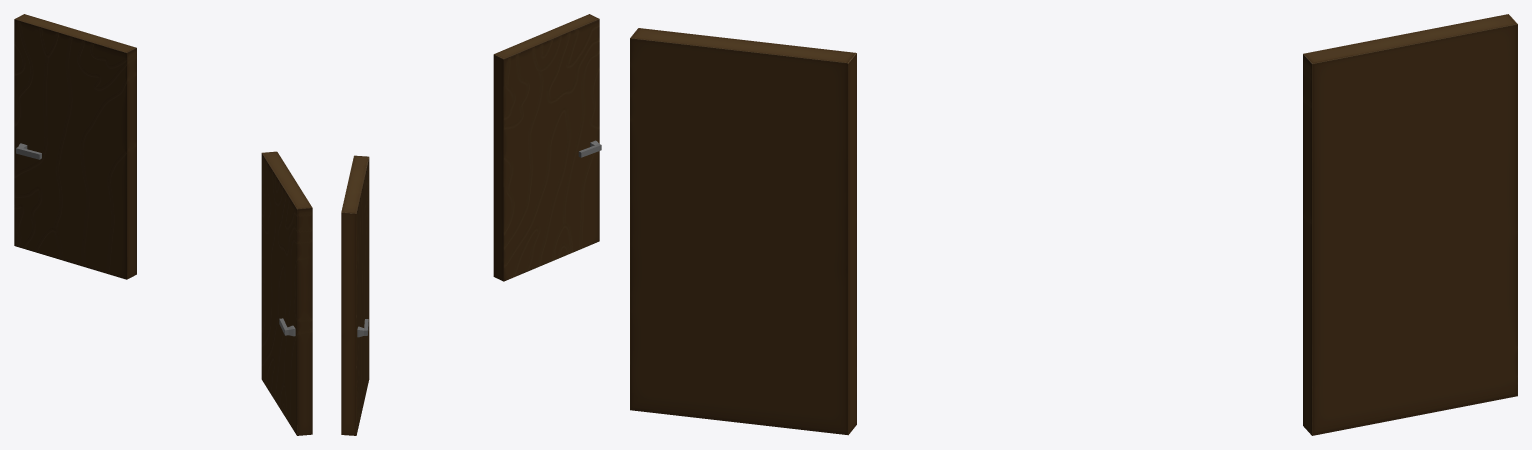
The model's file is DoorOfficeOPen.fbx.
3 views of the same model, side by side, from view 1: azimuth 30°, elevation 25°; view 2: azimuth 150°, elevation 25°; view 3: azimuth 270°, elevation 25° (orthographic). The views are drawn at different scales.
Parts seen in each view (by area): view 1: Door right, Door left; view 2: Door left, Door right; view 3: Door left, Door right.
Boxes of the visible parts, x1,y1,x2,y2 form: Door right: [14, 14, 136, 279]; Door left: [261, 151, 312, 435]; Door left: [493, 14, 601, 281]; Door right: [341, 155, 369, 435]; Door left: [630, 28, 856, 435]; Door right: [1303, 14, 1517, 435].
Bounding box in the file's own units: 98.48 × 317 × 685.
Materials: 3 (2 with a texture image).
